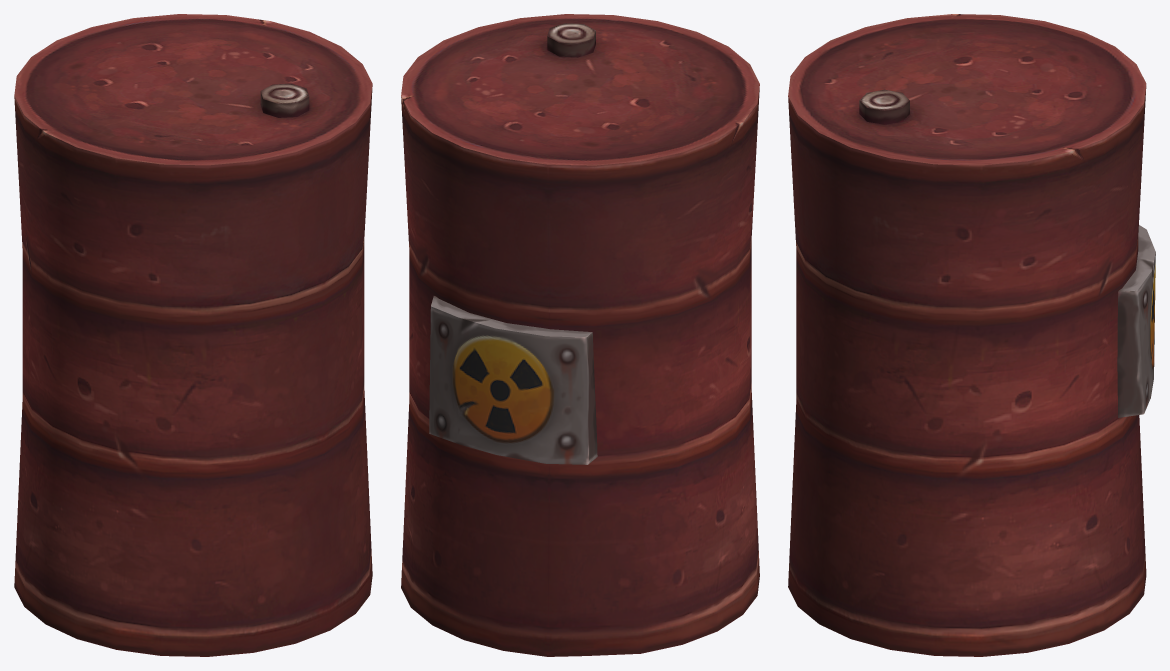
File: Barrel Radioactive curved 244 tris.fbx
The picture shows the model from 3 angles, left to right: view 1: azimuth 30°, elevation 25°; view 2: azimuth 150°, elevation 25°; view 3: azimuth 270°, elevation 25°; orthographic projection.
Parts seen in each view (by area): view 1: Barrel Radioactive curved 244 tris; view 2: Barrel Radioactive curved 244 tris; view 3: Barrel Radioactive curved 244 tris.
Boxes of the visible parts, x1,y1,x2,y2 form: Barrel Radioactive curved 244 tris: (14,14,372,656); Barrel Radioactive curved 244 tris: (401,14,759,656); Barrel Radioactive curved 244 tris: (788,14,1155,656).
Bounding box in the file's own units: 388 × 604 × 398.
